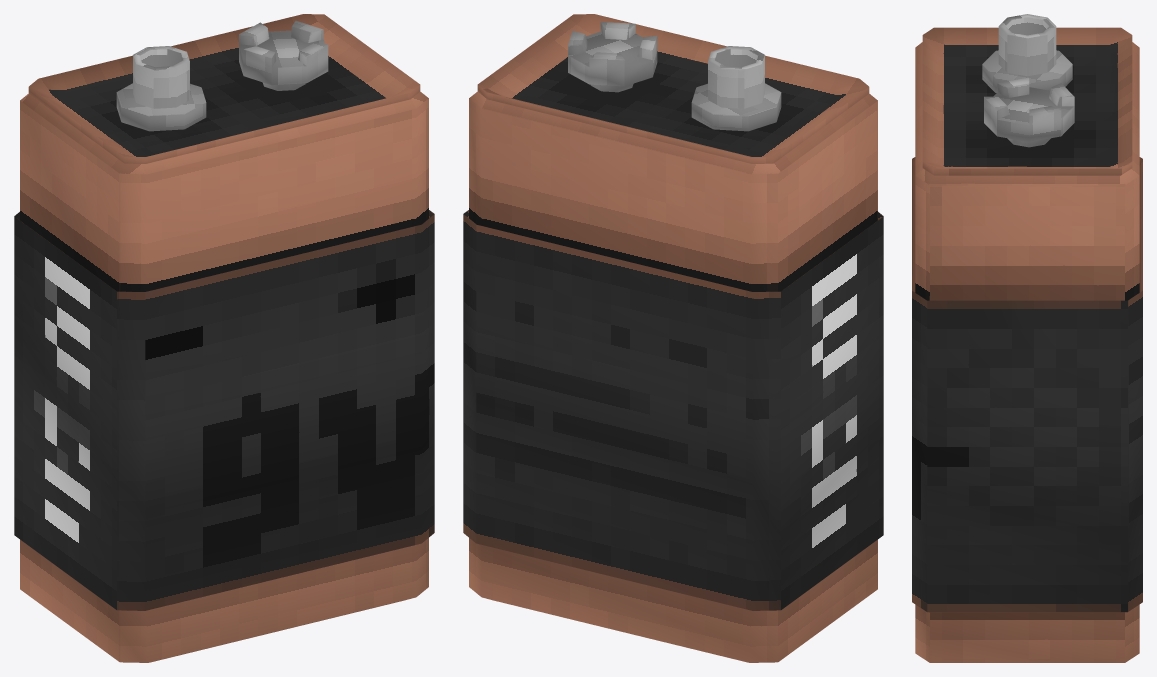
3 renders of one model, left to right at view 1: azimuth 30°, elevation 25°; view 2: azimuth 150°, elevation 25°; view 3: azimuth 270°, elevation 25°, orthographic. The views are drawn at different scales.
Parts seen in each view (by area): view 1: Cube; view 2: Cube; view 3: Cube.
Boxes of the visible parts, x1=… form: Cube: x1=14, y1=14, x2=434, y2=662; Cube: x1=463, y1=14, x2=883, y2=662; Cube: x1=912, y1=14, x2=1142, y2=662.
Bounding box in the file's own units: 2.06 × 3.4 × 1.32.
1 material, 1 textured.
